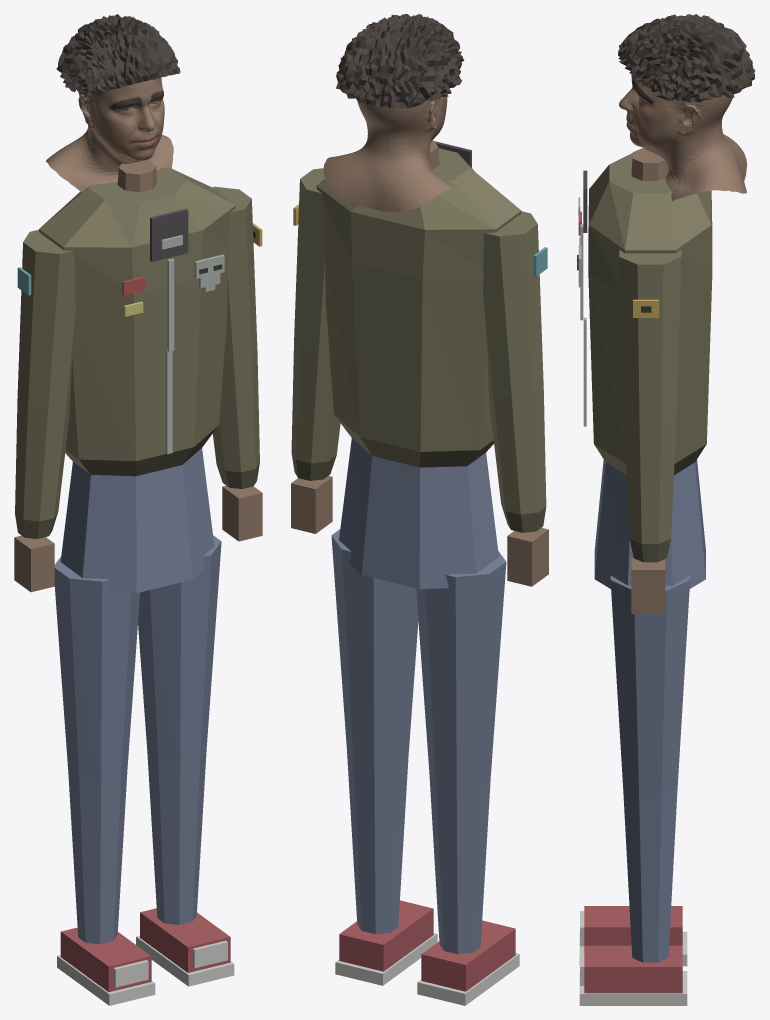
Rendered from frasier_temple_gnm.glb.
3 views of the same model, side by side, from view 1: azimuth 30°, elevation 25°; view 2: azimuth 150°, elevation 25°; view 3: azimuth 270°, elevation 25° (orthographic). The views are drawn at different scales.
Parts seen in each view (by area): view 1: frasier_temple_portrait; view 2: frasier_temple_portrait; view 3: frasier_temple_portrait.
Boxes of the visible parts, x1=… form: frasier_temple_portrait: x1=14, y1=14, x2=262, y2=1005; frasier_temple_portrait: x1=291, y1=14, x2=548, y2=1005; frasier_temple_portrait: x1=577, y1=14, x2=755, y2=1005.
Size of the model in its own units: 0.5444 by 2.05 by 0.3473.
